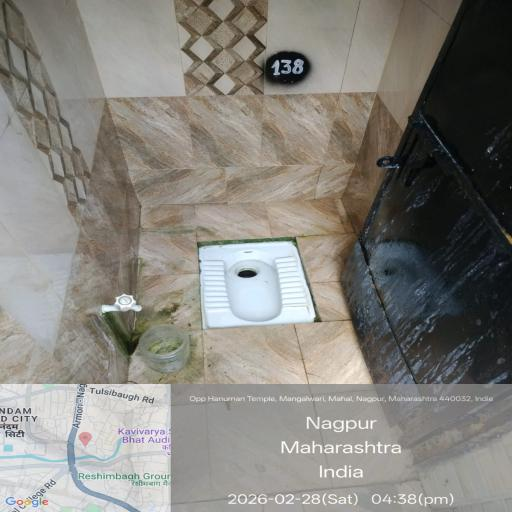clean_floor: (51, 28, 471, 137)
clean_indian: (159, 218, 331, 332)
partial_dirty_floor: (143, 180, 512, 511)
